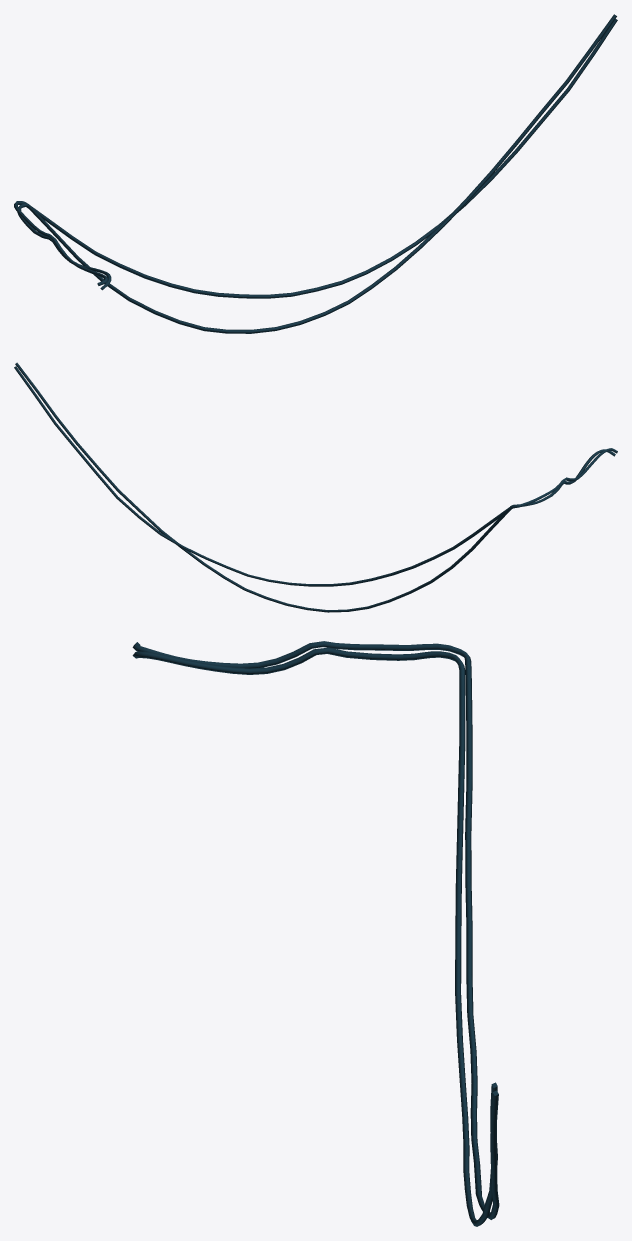
File: CableHanging_Thin_02.glb
3 renders of one model, top to bottom at view 1: azimuth 30°, elevation 25°; view 2: azimuth 150°, elevation 25°; view 3: azimuth 270°, elevation 25°, orthographic. The views are drawn at different scales.
Parts seen in each view (by area): view 1: CableHanging_Thin_02.001; view 2: CableHanging_Thin_02.001; view 3: CableHanging_Thin_02.001.
Part boxes in pixels (<box>): CableHanging_Thin_02.001: <box>14,14,617,333</box>; CableHanging_Thin_02.001: <box>14,362,617,612</box>; CableHanging_Thin_02.001: <box>132,641,499,1226</box>.
Bounding box in the file's own units: 3.16 × 1.08 × 0.9764.
